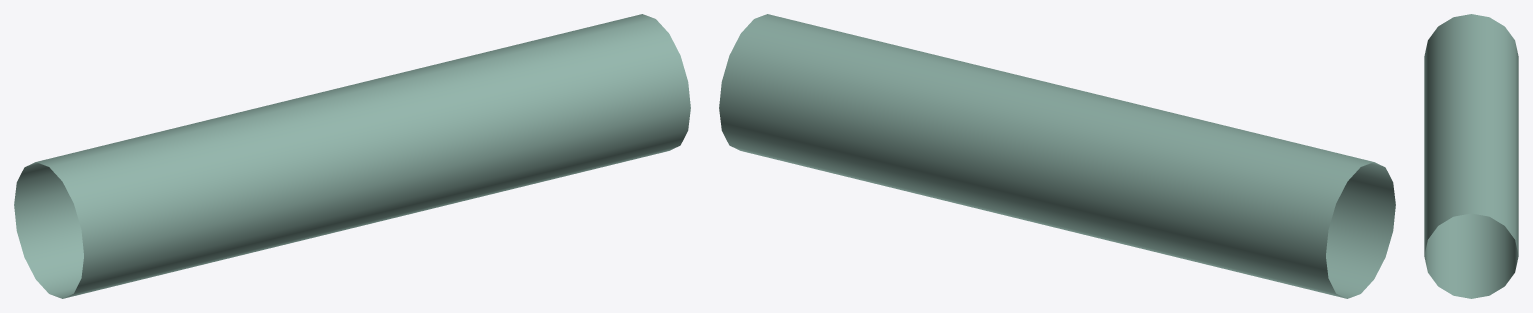
Rendered from PipeLarge_Straight_L05.fbx.
The picture shows the model from 3 angles, left to right: view 1: azimuth 30°, elevation 25°; view 2: azimuth 150°, elevation 25°; view 3: azimuth 270°, elevation 25°; orthographic projection. The views are drawn at different scales.
Parts seen in each view (by area): view 1: PipeLarge_Straight_L05.001; view 2: PipeLarge_Straight_L05.001; view 3: PipeLarge_Straight_L05.001.
Part boxes in pixels (<box>): PipeLarge_Straight_L05.001: <box>14,14,690,298</box>; PipeLarge_Straight_L05.001: <box>719,14,1395,298</box>; PipeLarge_Straight_L05.001: <box>1424,14,1518,298</box>.
Size of the model in its own units: 1 by 0.2 by 0.2.
